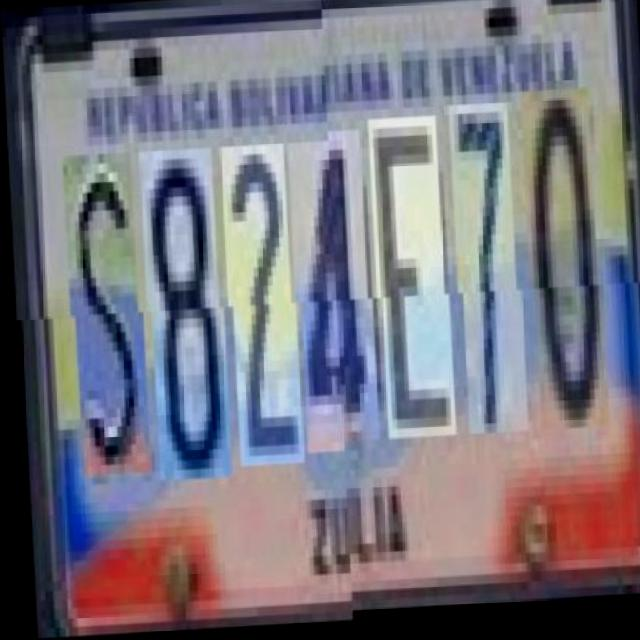2: (223, 146, 299, 470)
4: (290, 143, 375, 458)
7: (451, 117, 524, 450)
8: (142, 149, 228, 483)
e: (371, 130, 453, 454)
o: (523, 104, 605, 446)
s: (65, 154, 147, 477)
